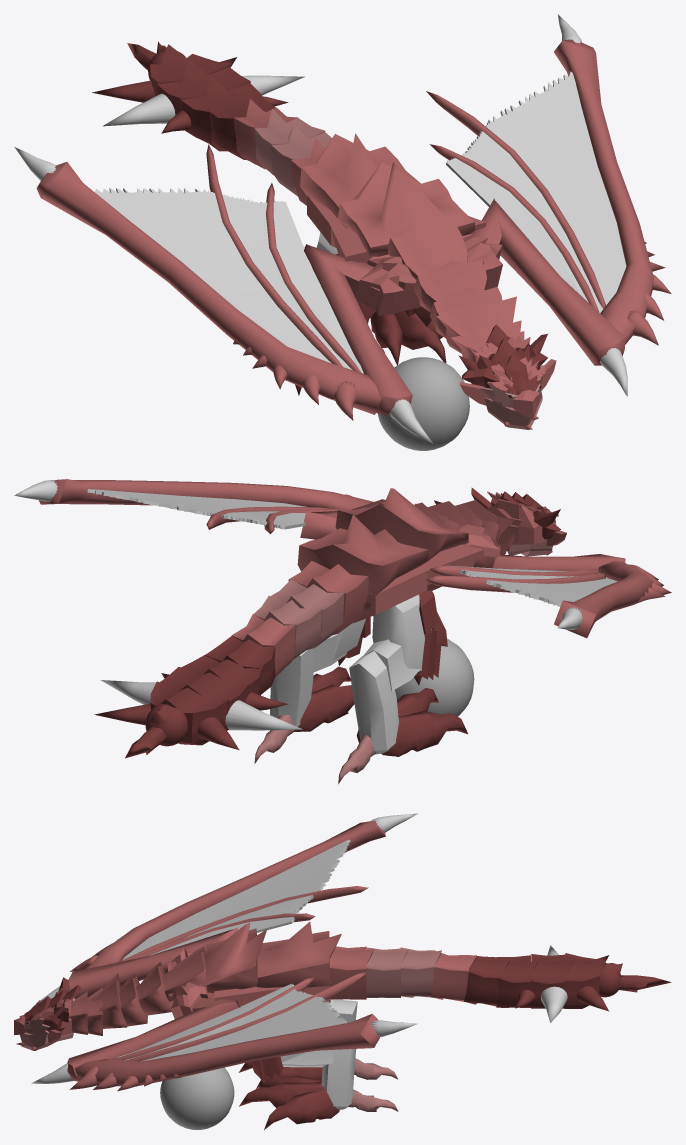
The picture shows the model from 3 angles, top to bottom: view 1: azimuth 30°, elevation 25°; view 2: azimuth 150°, elevation 25°; view 3: azimuth 270°, elevation 25°; orthographic projection. The views are drawn at different scales.
Visible parts, largest first — view 1: polySurface37, polySurface38, polySurface56, polySurface53, zenntai, polySurface45, pSphere4, polySurface46, sippo, ryouyoku, kubi, polySurface51 (+28 smaller); view 2: polySurface53, sippo, zenntai, polySurface67, polySurface37, polySurface56, pSphere4, polySurface38, polySurface71, pCube45, pCube52, polySurface68 (+37 smaller); view 3: polySurface53, polySurface38, polySurface37, polySurface56, sippo, pSphere4, zenntai, polySurface45, polySurface46, pCube46, pCube45, pCube48 (+30 smaller).
Part boxes in pixels (left/top/right/bottom): polySurface37: left=446, top=71, right=626, bottom=312; polySurface38: left=95, top=188, right=363, bottom=373; polySurface56: left=36, top=162, right=380, bottom=414; polySurface53: left=554, top=39, right=653, bottom=344; zenntai: left=338, top=162, right=474, bottom=256; polySurface45: left=495, top=201, right=625, bottom=365; pSphere4: left=377, top=357, right=469, bottom=450; polySurface46: left=305, top=246, right=412, bottom=415; sippo: left=300, top=133, right=420, bottom=228; ryouyoku: left=355, top=234, right=502, bottom=315; kubi: left=387, top=222, right=467, bottom=279; polySurface51: left=426, top=91, right=605, bottom=308; polySurface53: left=39, top=479, right=373, bottom=509; sippo: left=297, top=514, right=430, bottom=610; zenntai: left=335, top=488, right=468, bottom=559; polySurface67: left=349, top=651, right=398, bottom=754; polySurface37: left=87, top=489, right=306, bottom=529; polySurface56: left=554, top=561, right=653, bottom=638; pSphere4: left=395, top=638, right=474, bottom=716; polySurface38: left=446, top=565, right=617, bottom=606; polySurface71: left=372, top=594, right=431, bottom=671; pCube45: left=288, top=561, right=368, bottom=635; pCube52: left=150, top=681, right=228, bottom=745; polySurface68: left=270, top=648, right=313, bottom=726; polySurface53: left=74, top=1013, right=380, bottom=1086; polySurface38: left=122, top=839, right=350, bottom=960; polySurface37: left=117, top=983, right=346, bottom=1061; polySurface56: left=79, top=821, right=385, bottom=970; sippo: left=256, top=921, right=341, bottom=987; pSphere4: left=160, top=1067, right=234, bottom=1129; zenntai: left=205, top=922, right=267, bottom=992; polySurface45: left=67, top=1001, right=238, bottom=1081; polySurface46: left=68, top=929, right=233, bottom=999; pCube46: left=366, top=947, right=407, bottom=997; pCube45: left=329, top=946, right=373, bottom=999; pCube48: left=431, top=950, right=476, bottom=1001.
Size of the model in its own units: 13.59 by 6.22 by 17.68.
